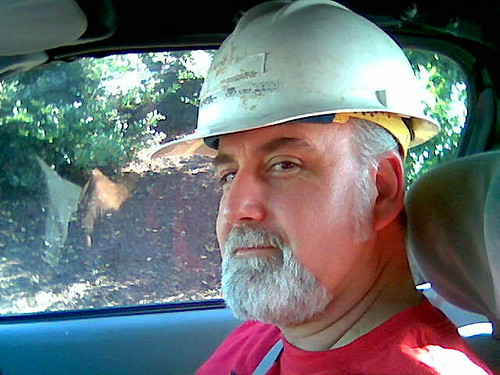person hardhat: (145, 1, 494, 373)
